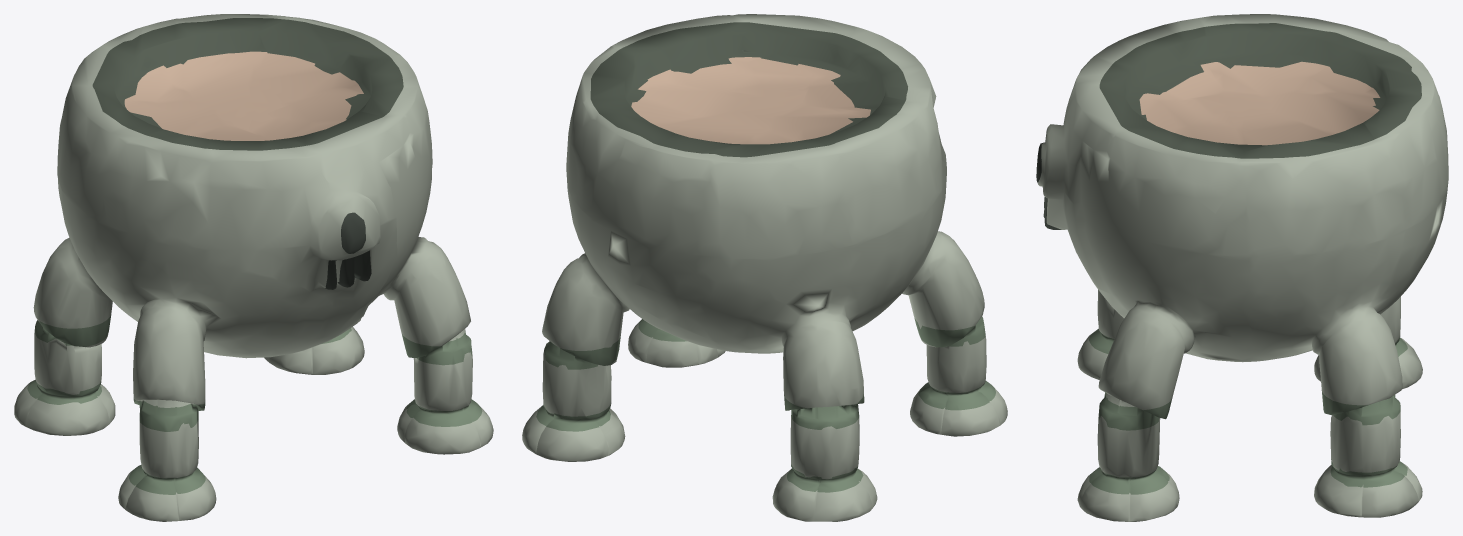
File: cart.glb
3 views of the same model, side by side, from view 1: azimuth 30°, elevation 25°; view 2: azimuth 150°, elevation 25°; view 3: azimuth 270°, elevation 25° (orthographic). The views are drawn at different scales.
Visible parts, largest first — view 1: crucible walker tripo; view 2: crucible walker tripo; view 3: crucible walker tripo.
Boxes of the visible parts, x1,y1,x2,y2 form: crucible walker tripo: [14, 14, 493, 521]; crucible walker tripo: [522, 14, 1007, 521]; crucible walker tripo: [1036, 14, 1448, 521].
Bounding box in the file's own units: 2.23 × 2 × 2.15.
